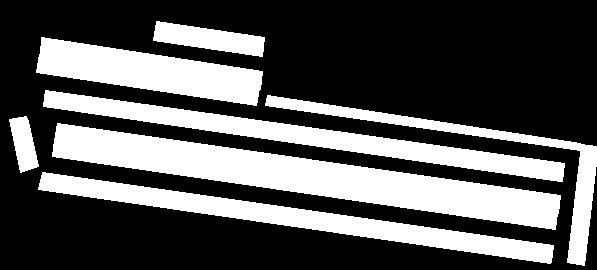parkingspot: (43, 90, 564, 181), (38, 172, 553, 263), (54, 123, 560, 213), (52, 140, 557, 229), (265, 95, 580, 150), (40, 37, 262, 89), (36, 54, 259, 105), (153, 21, 264, 56), (567, 144, 597, 265), (9, 116, 38, 172)
